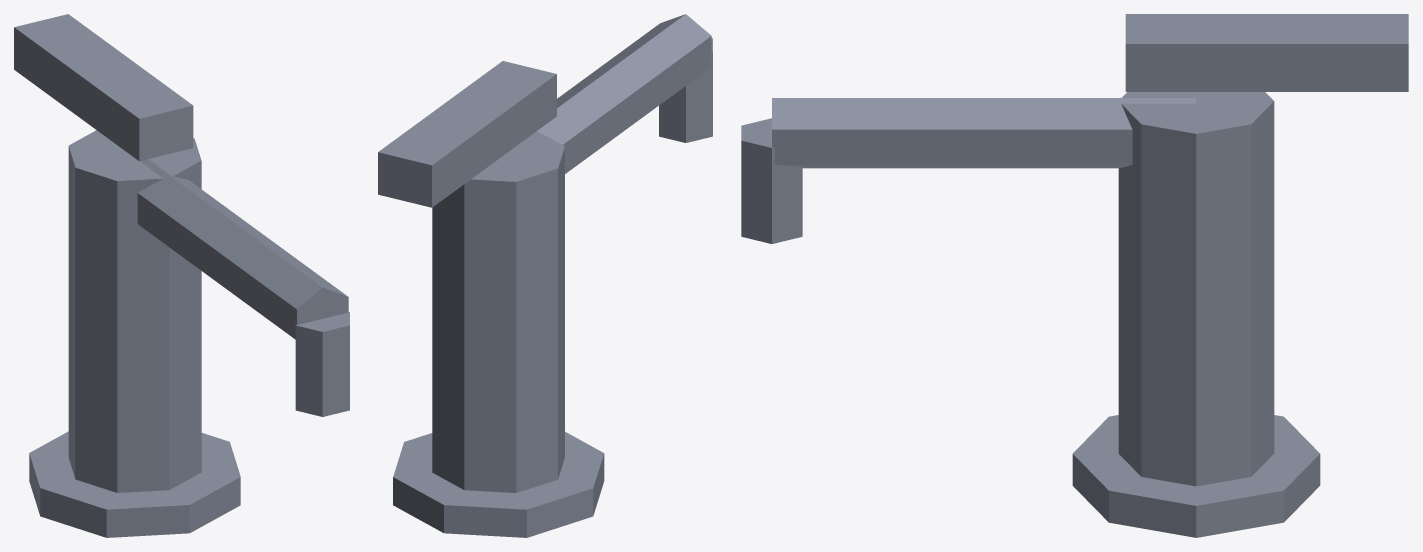
The model's file is Faucet.fbx.
3 renders of one model, left to right at view 1: azimuth 30°, elevation 25°; view 2: azimuth 150°, elevation 25°; view 3: azimuth 270°, elevation 25°, orthographic. The views are drawn at different scales.
Visible parts, largest first — view 1: Faucet; view 2: Faucet; view 3: Faucet.
Boxes of the visible parts, left/top/right/bottom form: Faucet: left=14, top=14, right=349, bottom=537; Faucet: left=378, top=14, right=712, bottom=537; Faucet: left=741, top=14, right=1408, bottom=537.
Bounding box in the file's own units: 0.07 × 0.1425 × 0.1887.
1 material, 1 textured.
